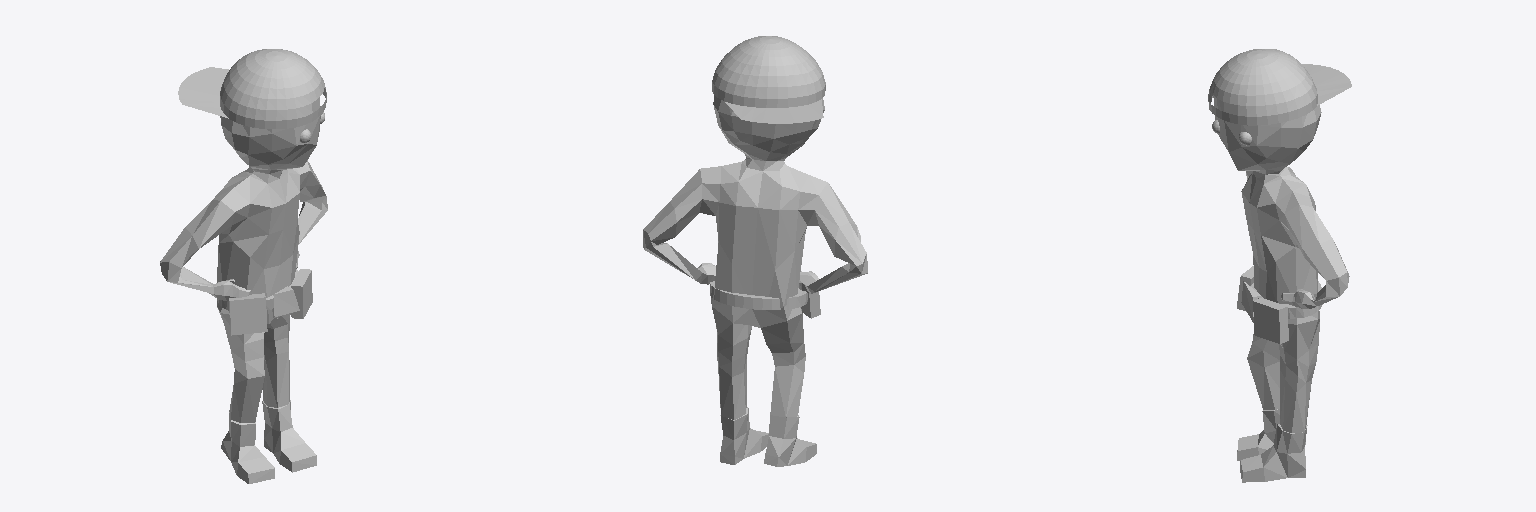
File: Main_Character_Idle_5.obj
3 views of the same model, side by side, from view 1: azimuth 30°, elevation 25°; view 2: azimuth 150°, elevation 25°; view 3: azimuth 270°, elevation 25° (orthographic).
Visible parts, largest first — view 1: Main_Character_Test.003_Main_Character_Test.004; view 2: Main_Character_Test.003_Main_Character_Test.004; view 3: Main_Character_Test.003_Main_Character_Test.004.
Boxes of the visible parts, box(x1,y1,x2,y2) form: Main_Character_Test.003_Main_Character_Test.004: box(160, 49, 327, 483); Main_Character_Test.003_Main_Character_Test.004: box(643, 36, 867, 466); Main_Character_Test.003_Main_Character_Test.004: box(1208, 49, 1351, 482).
Bounding box in the file's own units: 1.92 × 3.97 × 1.26.